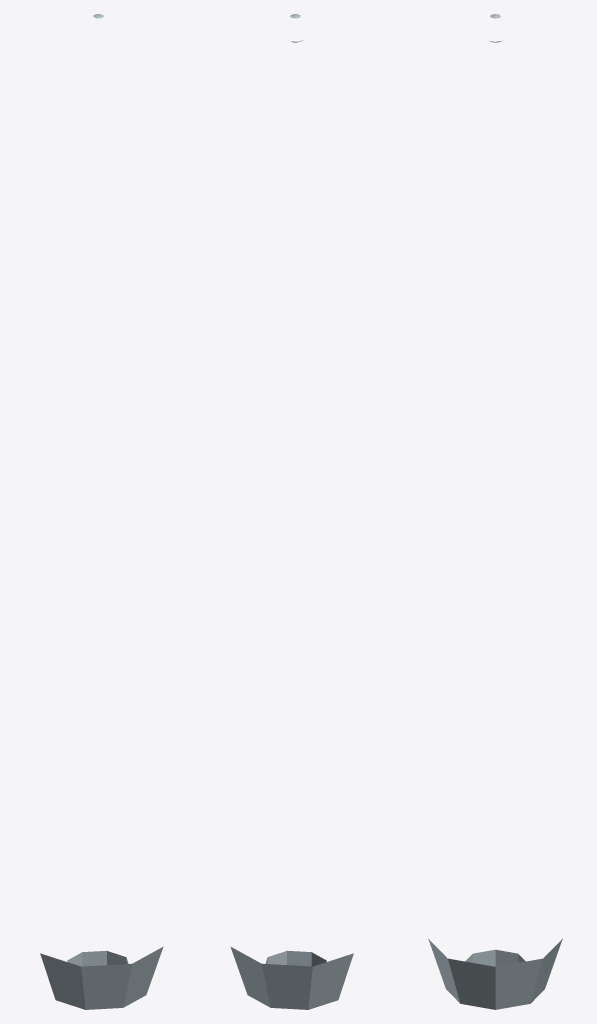
The model's file is thruster01a.gltf.
The picture shows the model from 3 angles, left to right: view 1: azimuth 30°, elevation 25°; view 2: azimuth 150°, elevation 25°; view 3: azimuth 270°, elevation 25°; orthographic projection.
Parts seen in each view (by area): view 1: Rocket_Ship_Circle.003_Rocket_Ship_Circle.009; view 2: Rocket_Ship_Circle.003_Rocket_Ship_Circle.009; view 3: Rocket_Ship_Circle.003_Rocket_Ship_Circle.009.
Part boxes in pixels (bbox=[...]): Rocket_Ship_Circle.003_Rocket_Ship_Circle.009: bbox=[40, 14, 163, 1009]; Rocket_Ship_Circle.003_Rocket_Ship_Circle.009: bbox=[230, 14, 353, 1009]; Rocket_Ship_Circle.003_Rocket_Ship_Circle.009: bbox=[428, 14, 562, 1009].
Size of the model in its own units: 2.21 by 13.59 by 2.21.
